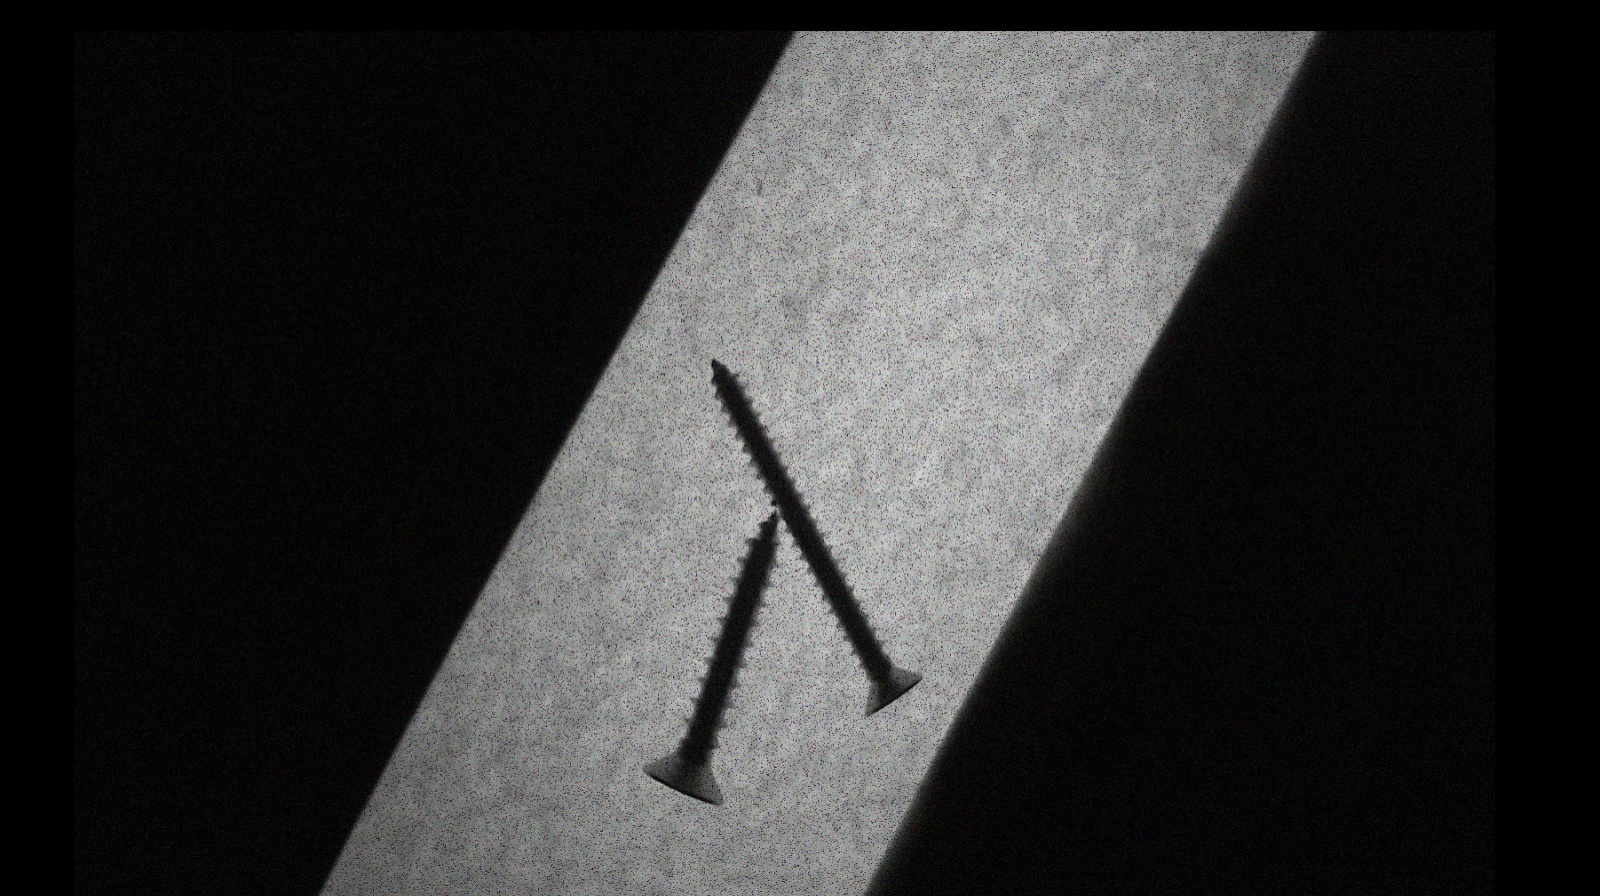S001: (638, 504, 773, 806)
S002: (708, 352, 927, 717)
